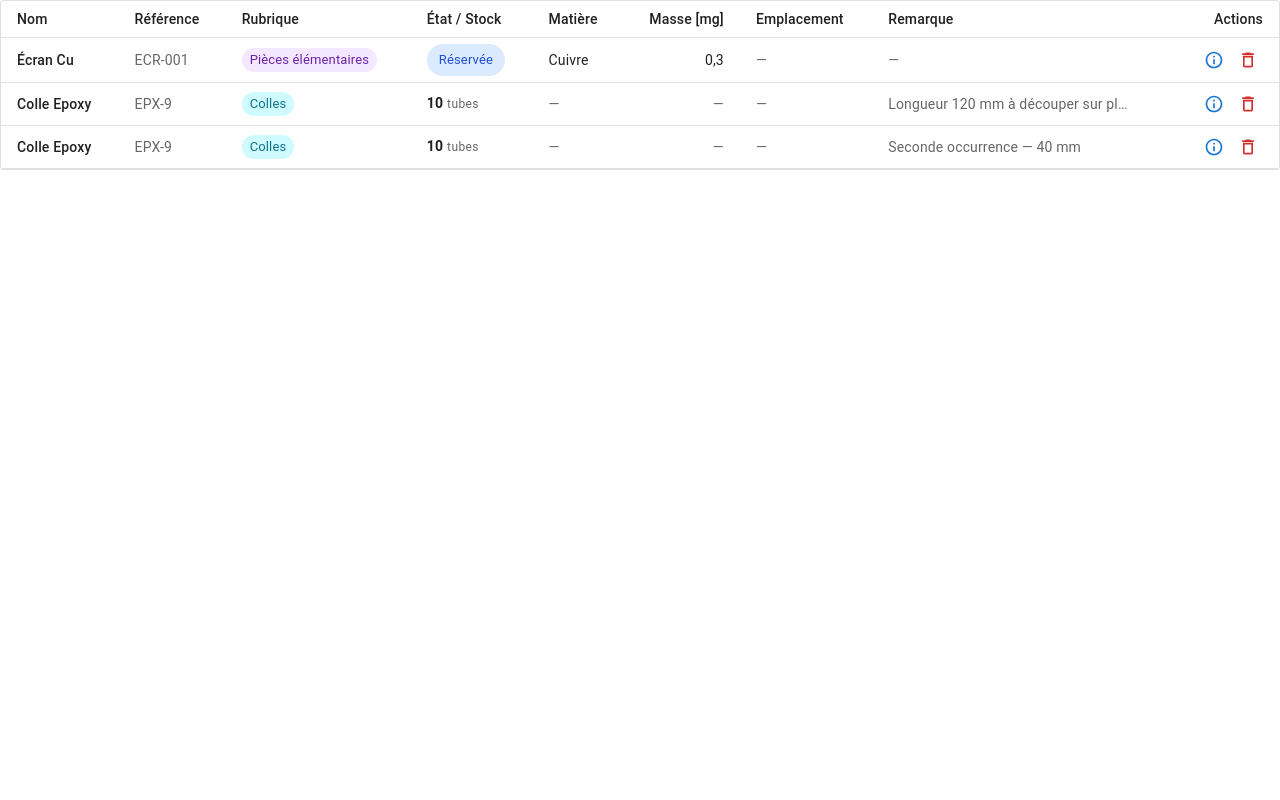
Test: AssemblyItemsTable › le bouton « Voir la fiche » ouvre la fiche de la bonne occurrence
Expected: the text "Écran Cu" is shown, [17, 52, 74, 68]
Click the button named "Voir la fiche de Colle Epoxy" next to "Seconde occurrence — 40 mm" at (1214, 147), box [1199, 132, 1229, 162]
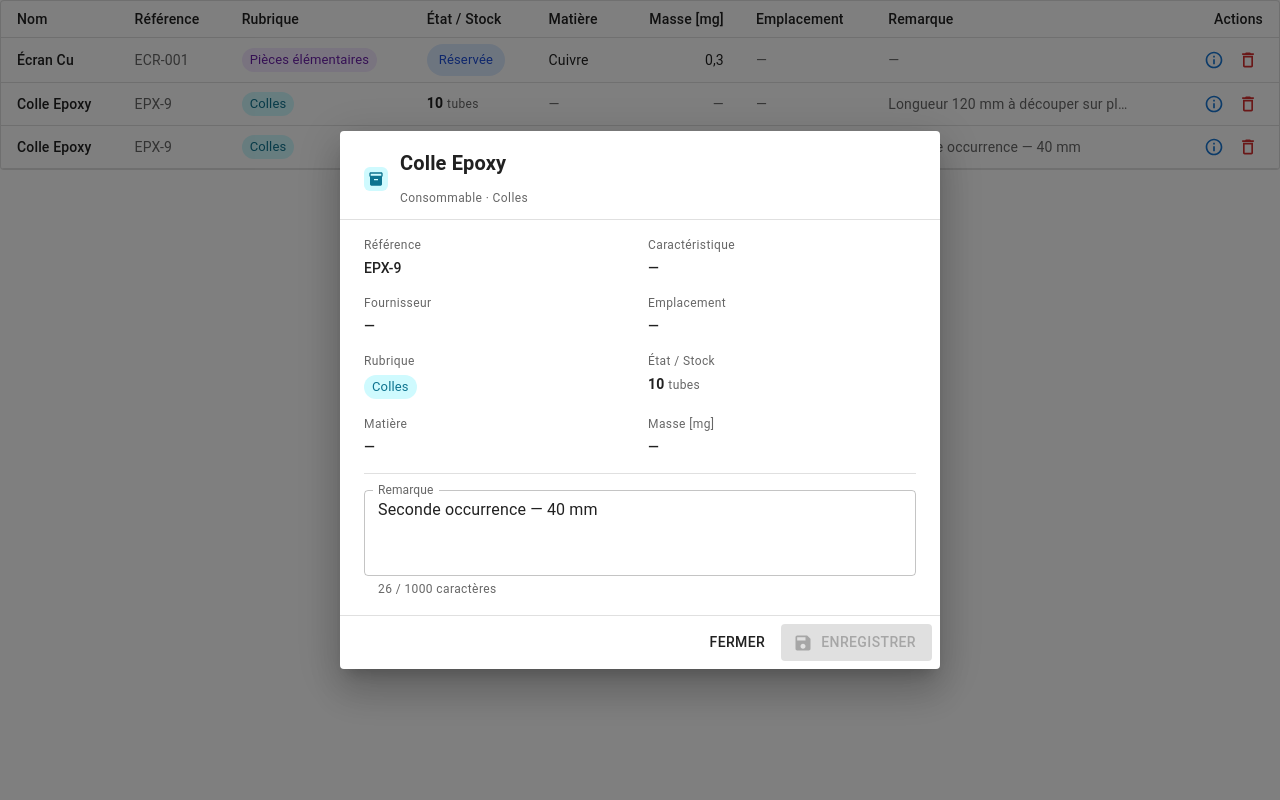
Expected: the text box labelled "Remarque" holds "Seconde occurrence — 40 mm", [378, 498, 902, 567]
